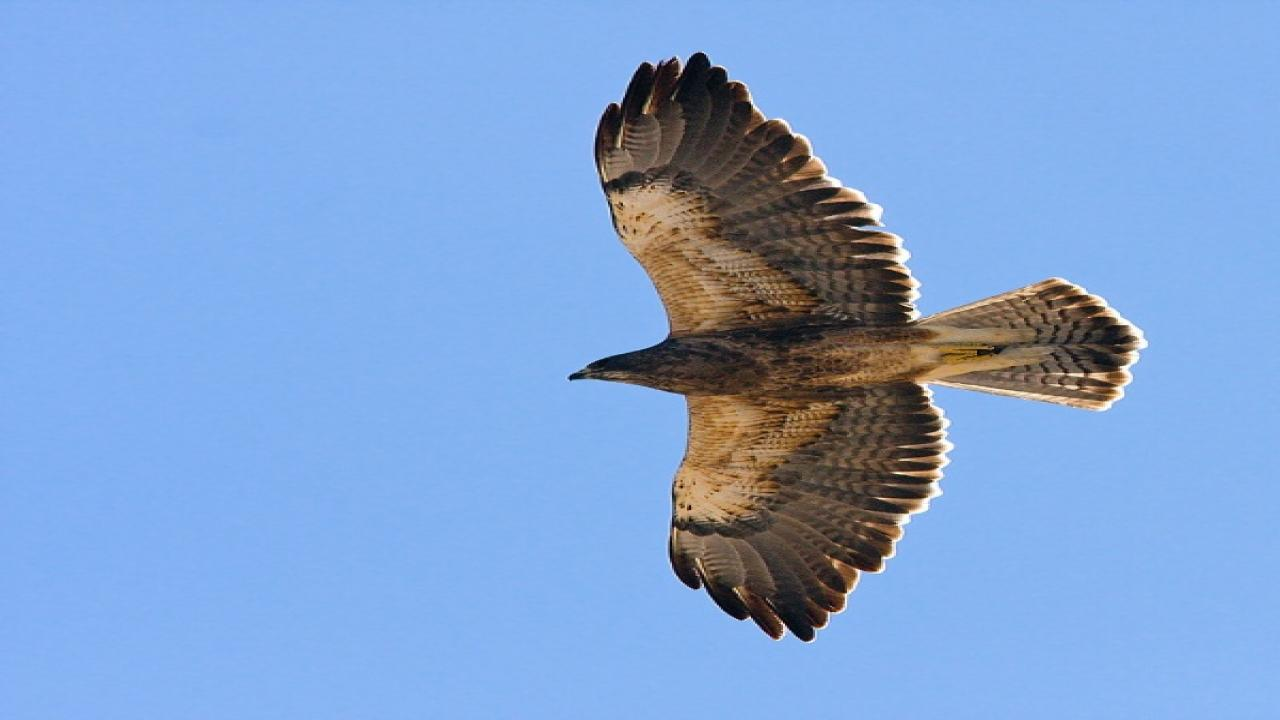Bird: (556, 44, 1162, 648)
